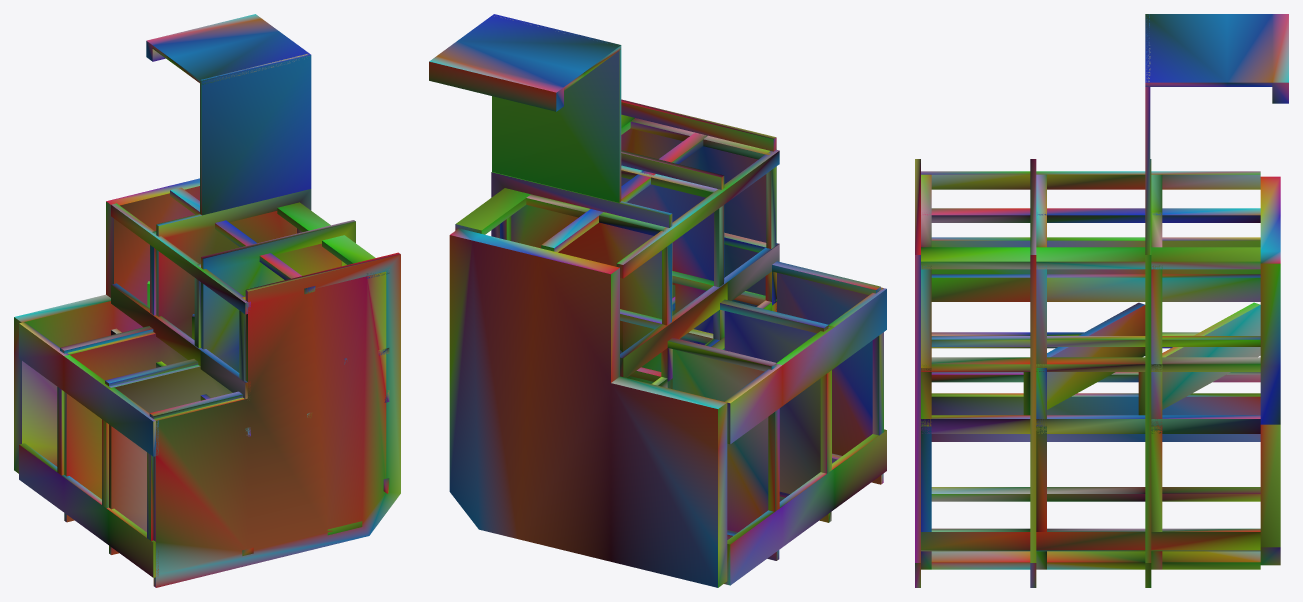
Rendered from parking.fbx.
The picture shows the model from 3 angles, left to right: view 1: azimuth 30°, elevation 25°; view 2: azimuth 150°, elevation 25°; view 3: azimuth 270°, elevation 25°; orthographic projection. The views are drawn at different scales.
Bounding box in the file's own units: 11.02 × 17.35 × 11.2.
